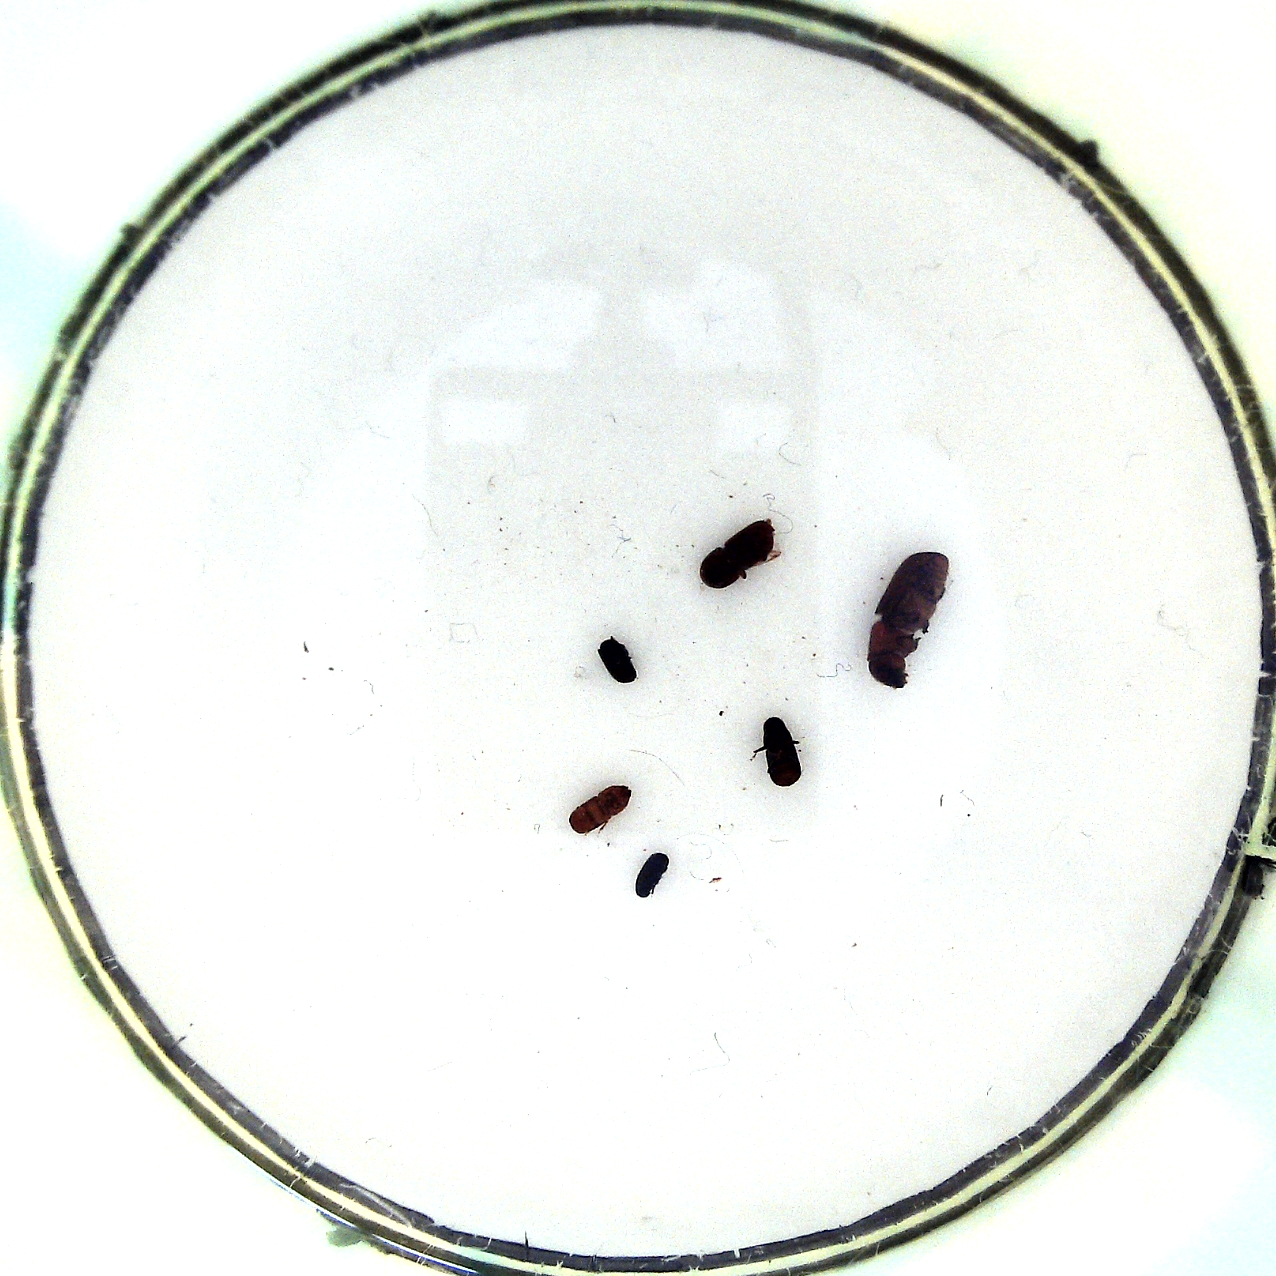Leconte: (864, 548, 953, 692)
Linnaeus: (694, 509, 781, 592)
acuminatus: (559, 782, 634, 835)
armandi: (746, 714, 810, 788)
coleoptera: (634, 849, 679, 904), (594, 637, 638, 682)
